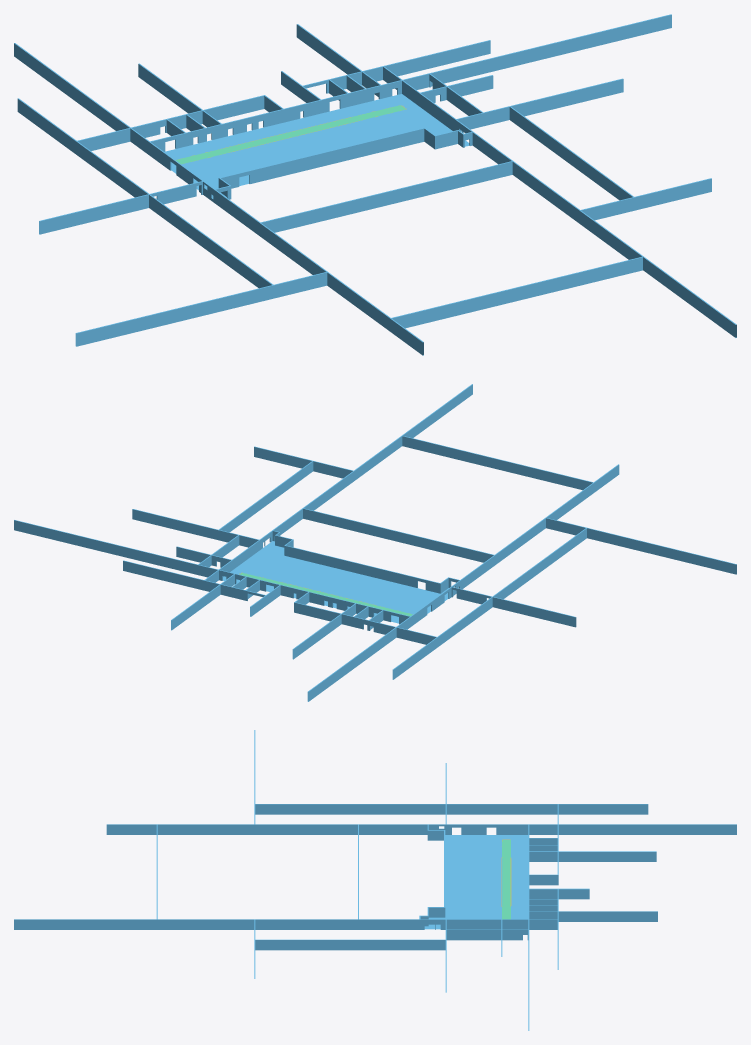
The model's file is meidiDemo2.fbx.
3 renders of one model, top to bottom at view 1: azimuth 30°, elevation 25°; view 2: azimuth 150°, elevation 25°; view 3: azimuth 270°, elevation 25°, orthographic. The views are drawn at different scales.
Parts seen in each view (by area): view 1: qiang_ti, shu_ju_po_sui, liu_bian_xing, da_mian; view 2: qiang_ti, shu_ju_po_sui, liu_bian_xing, da_mian; view 3: qiang_ti, shu_ju_po_sui, liu_bian_xing, da_mian.
Part boxes in pixels (x1,y1,x2,y2): qiang_ti: (75,66,643,331); shu_ju_po_sui: (14,14,736,355); liu_bian_xing: (164,94,469,197); da_mian: (176,105,405,164); qiang_ti: (197,435,594,646); shu_ju_po_sui: (14,384,736,701); liu_bian_xing: (223,541,448,623); da_mian: (240,573,412,616); qiang_ti: (156,804,558,950); shu_ju_po_sui: (14,730,736,1030); liu_bian_xing: (424,835,528,929); da_mian: (502,840,510,919).
Size of the model in its own units: 25706 by 420 by 27011.
